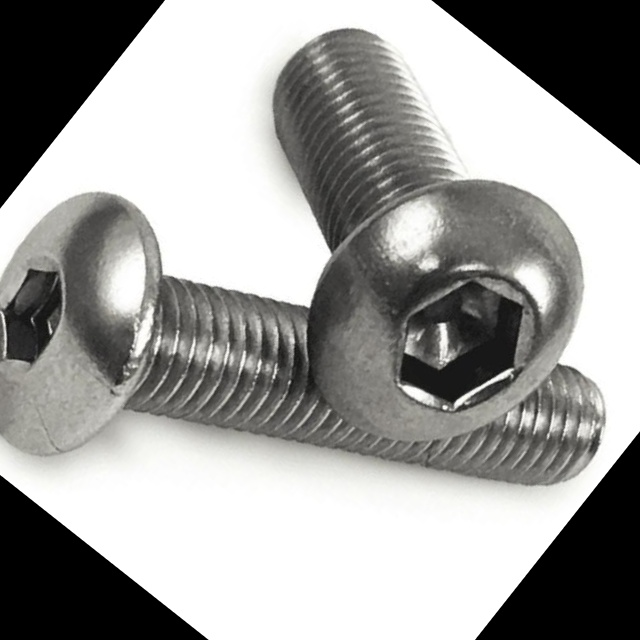allen: (369, 247, 555, 437), (0, 252, 92, 385)
